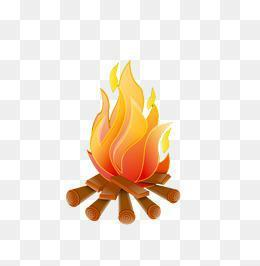fire: (72, 46, 180, 181)
